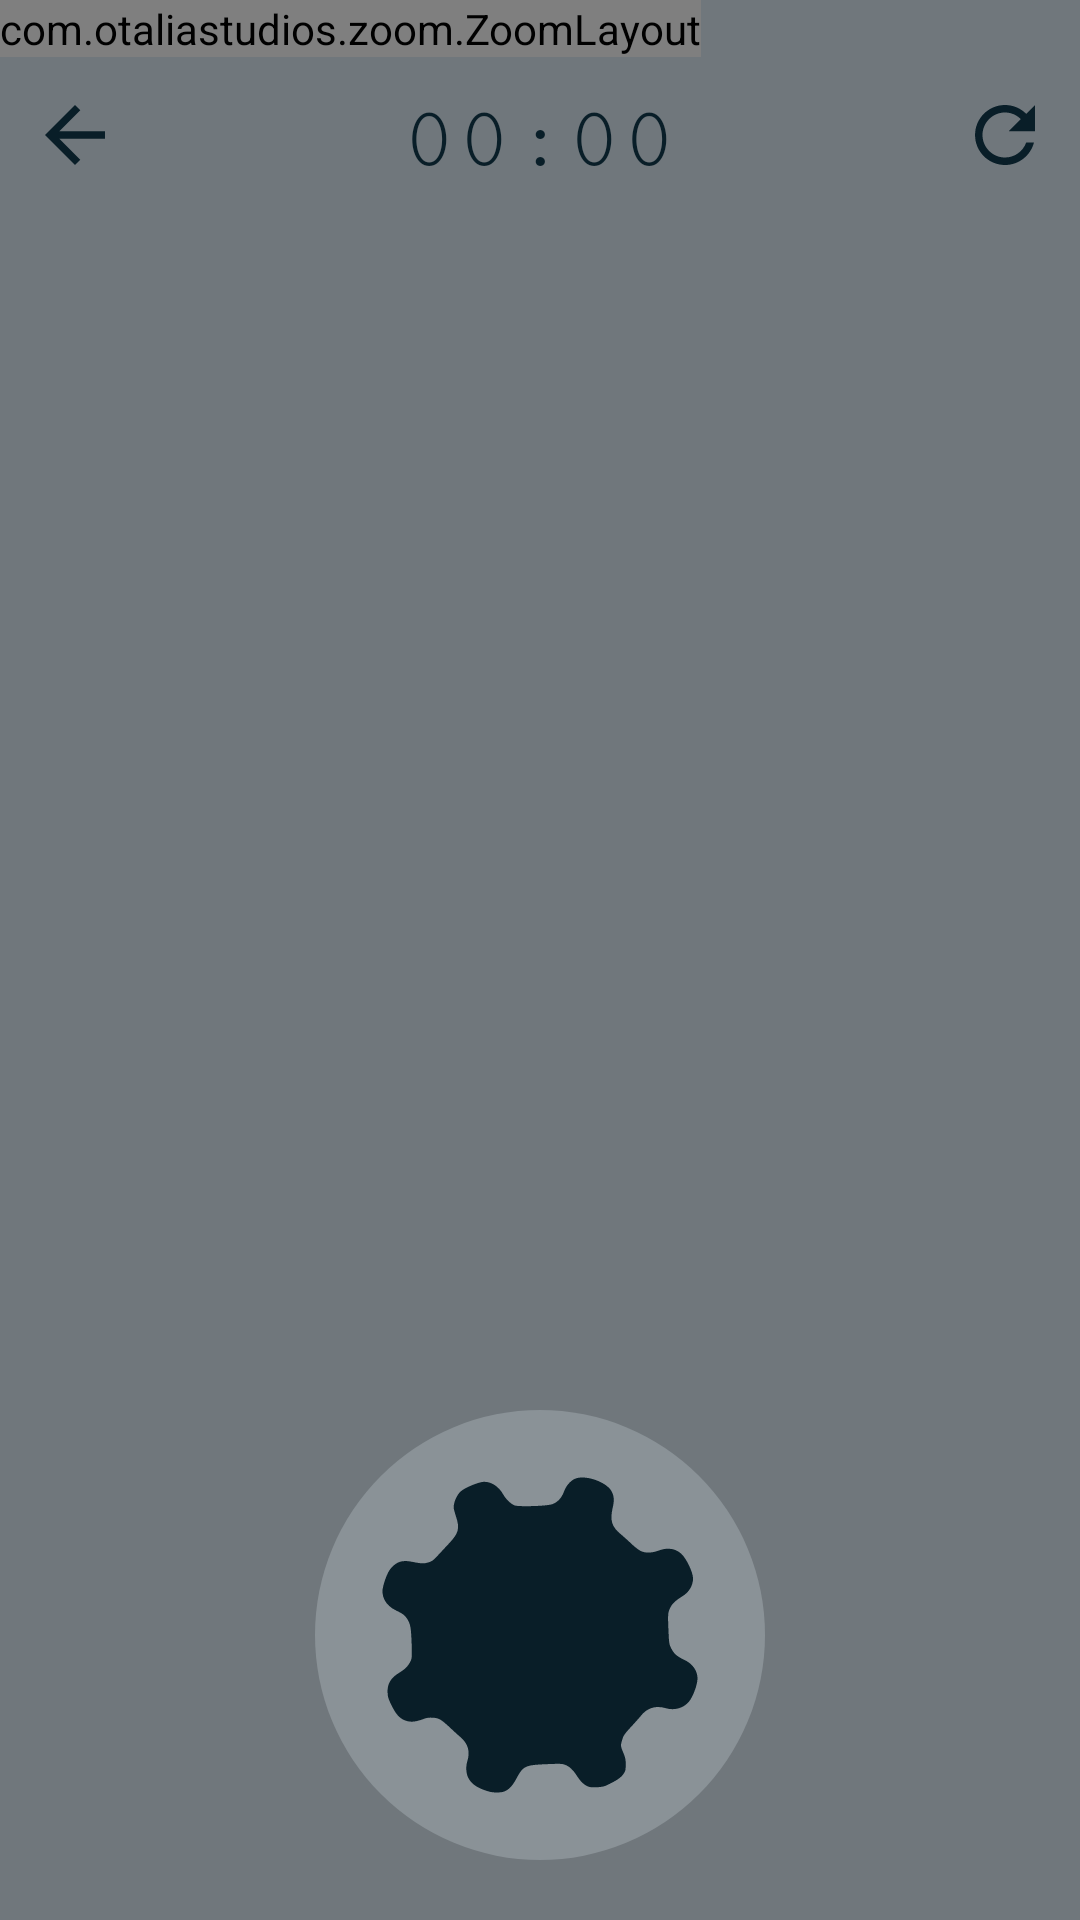

Named icons in this screenshot (1080px×1920px) and their bounding boxes, (x1, y1, x2, y2):
arrow back: (45, 105, 105, 165)
refresh: (975, 105, 1035, 165)
